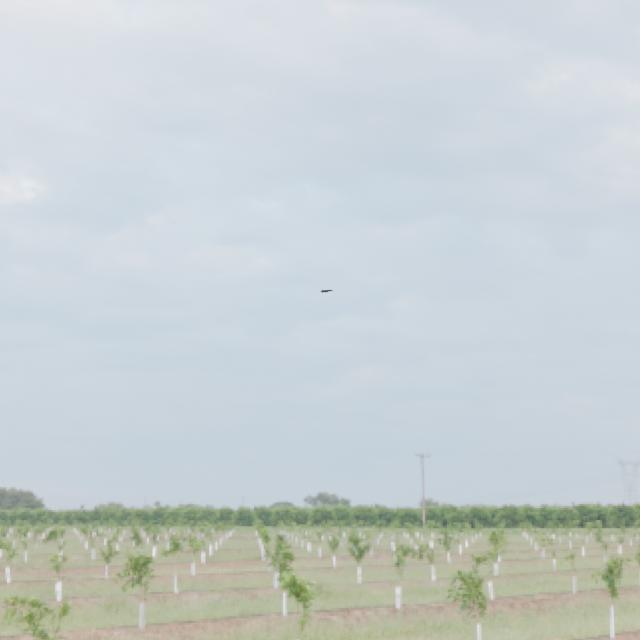Airaplan: (320, 288, 334, 293)
